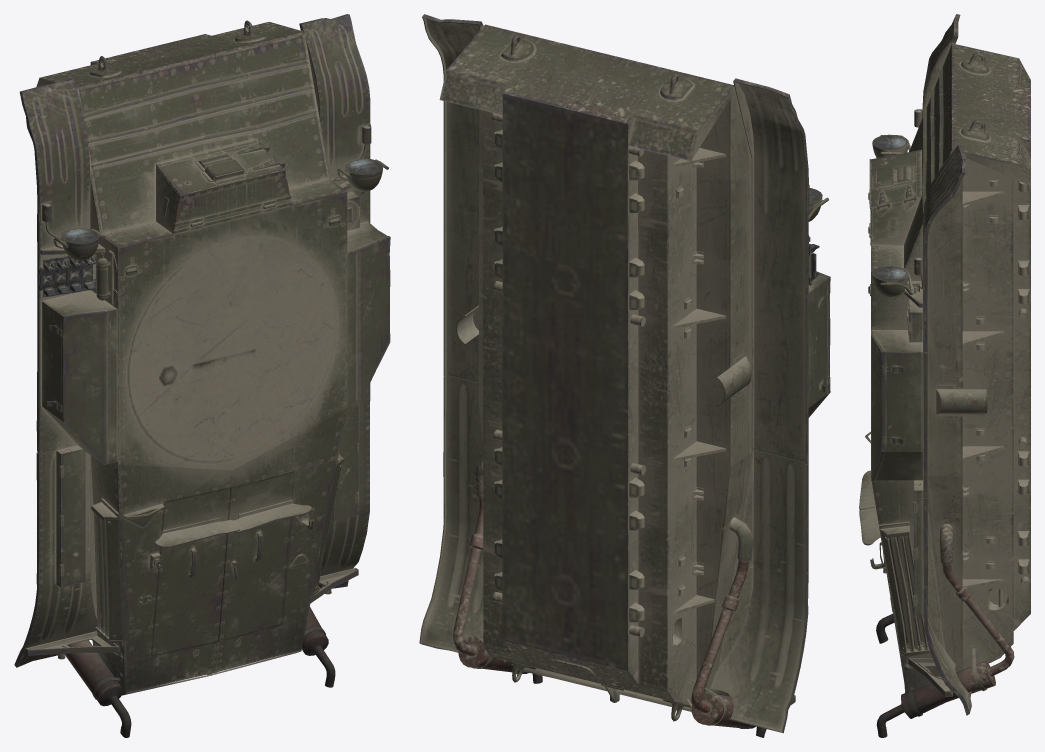
Rendered from Hull.glb.
3 views of the same model, side by side, from view 1: azimuth 30°, elevation 25°; view 2: azimuth 150°, elevation 25°; view 3: azimuth 270°, elevation 25° (orthographic). The views are drawn at different scales.
Parts seen in each view (by area): view 1: set_0_group_0; view 2: set_0_group_0; view 3: set_0_group_0.
Part boxes in pixels (bbox=[...]): set_0_group_0: bbox=[14, 14, 390, 737]; set_0_group_0: bbox=[419, 14, 830, 737]; set_0_group_0: bbox=[859, 14, 1030, 737].
Size of the model in its own units: 2.3 by 4.17 by 1.08.
1 material, 1 textured.
